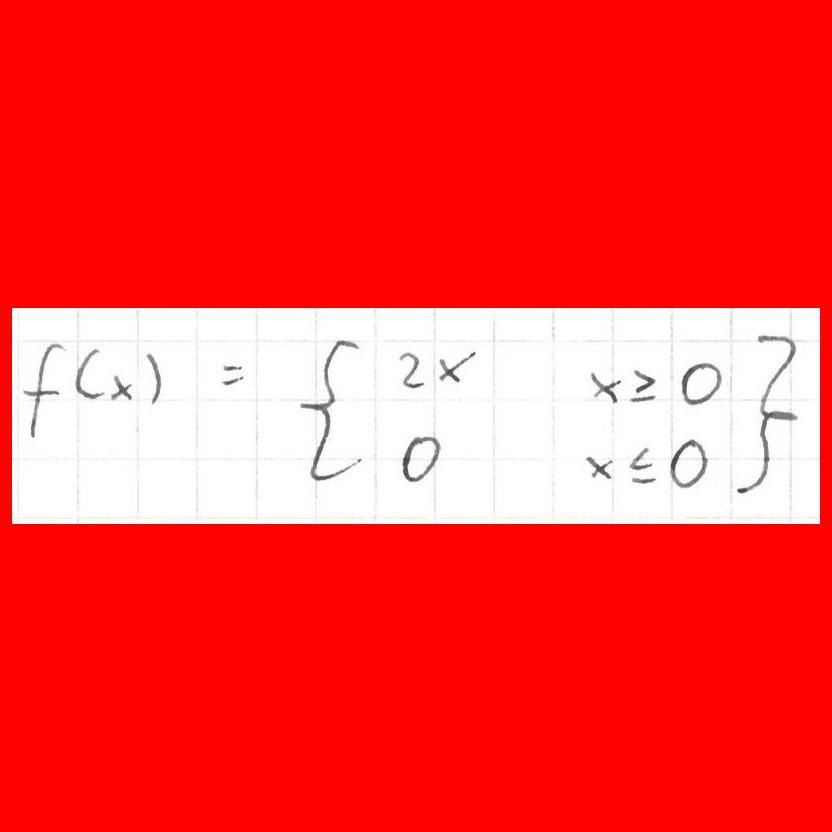Char: (729, 326, 797, 497), (299, 334, 363, 482), (19, 337, 67, 441), (667, 436, 710, 492), (678, 358, 723, 405), (399, 433, 443, 481), (72, 345, 105, 405), (435, 349, 476, 388), (141, 347, 164, 406), (627, 443, 657, 487), (396, 348, 424, 391), (588, 368, 619, 405), (628, 366, 657, 400), (218, 357, 248, 388), (585, 454, 615, 480), (110, 372, 133, 402)
